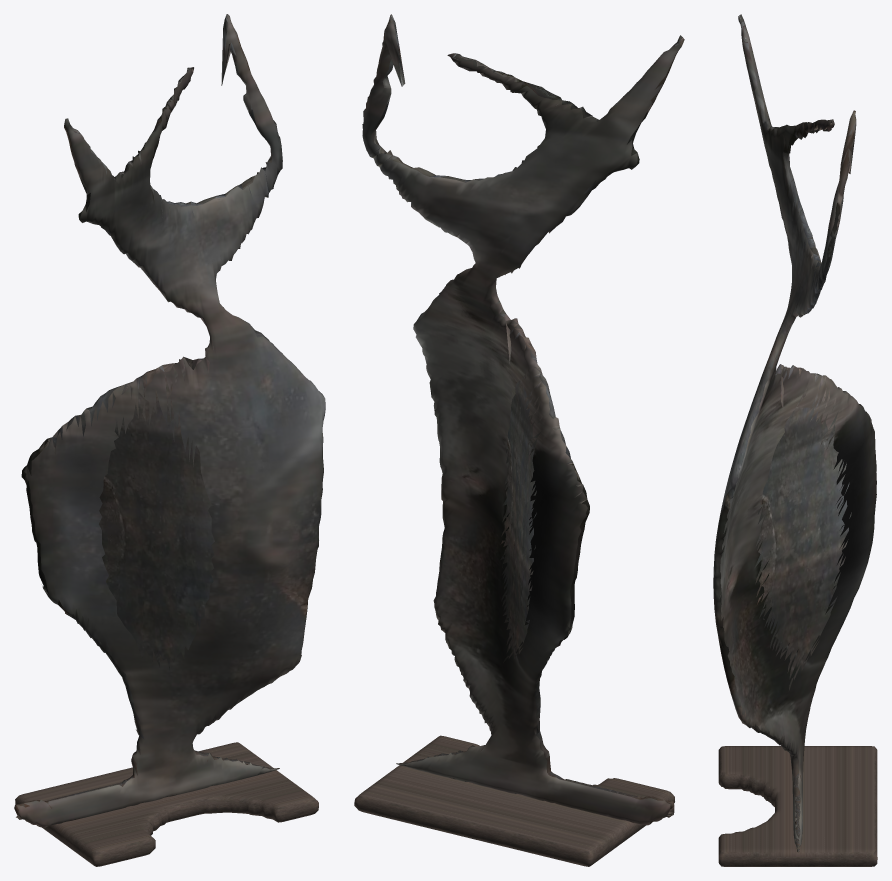
Rendered from escultura-hierro.glb.
The picture shows the model from 3 angles, left to right: view 1: azimuth 30°, elevation 25°; view 2: azimuth 150°, elevation 25°; view 3: azimuth 270°, elevation 25°; orthographic projection. The views are drawn at different scales.
Parts seen in each view (by area): view 1: world; view 2: world; view 3: world.
Boxes of the visible parts, left/top/right/bottom form: world: left=14, top=14, right=325, bottom=866; world: left=354, top=14, right=684, bottom=866; world: left=713, top=14, right=877, bottom=866.
Size of the model in its own units: 0.1783 by 0.458 by 0.0912.
1 material, 1 textured.
